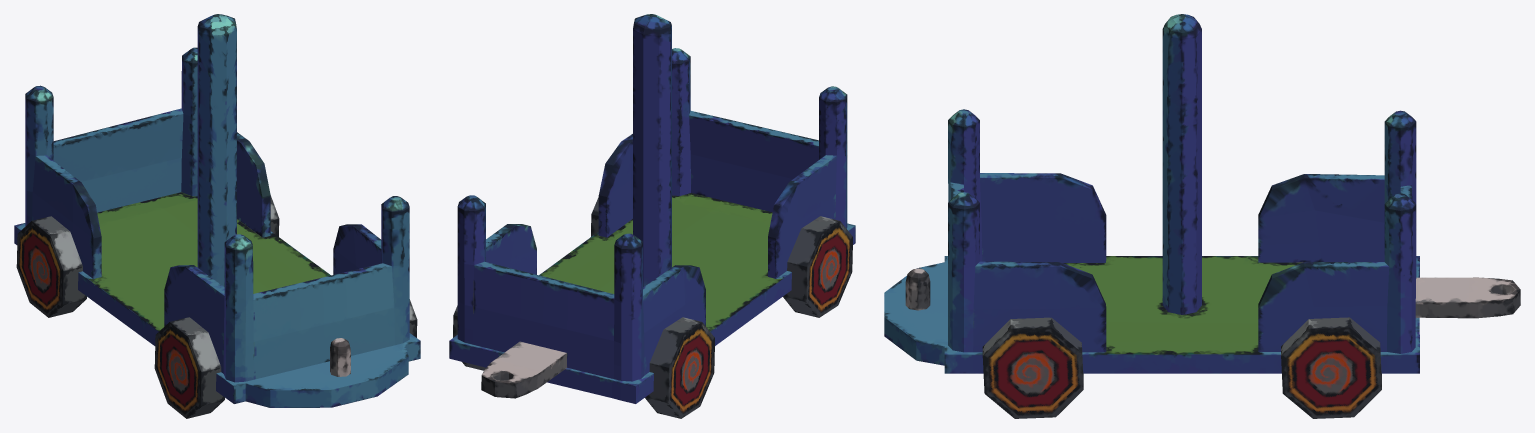
File: TrainCartPole.fbx
3 views of the same model, side by side, from view 1: azimuth 30°, elevation 25°; view 2: azimuth 150°, elevation 25°; view 3: azimuth 270°, elevation 25° (orthographic). The views are drawn at different scales.
Visible parts, largest first — view 1: SM_TrainCart_harder.002, Wiel-Klein.004, Wiel-Klein.003; view 2: SM_TrainCart_harder.002, Wiel-Klein.003, Wiel-Klein.004; view 3: SM_TrainCart_harder.002, Wiel-Klein.004, Wiel-Klein.003.
Part boxes in pixels (bbox=[...]): SM_TrainCart_harder.002: bbox=[14, 14, 420, 407]; Wiel-Klein.004: bbox=[16, 195, 279, 317]; Wiel-Klein.003: bbox=[154, 299, 417, 418]; SM_TrainCart_harder.002: bbox=[449, 14, 855, 403]; Wiel-Klein.003: bbox=[591, 197, 852, 317]; Wiel-Klein.004: bbox=[453, 305, 714, 418]; SM_TrainCart_harder.002: bbox=[884, 14, 1520, 373]; Wiel-Klein.004: bbox=[1281, 317, 1381, 418]; Wiel-Klein.003: bbox=[982, 317, 1083, 418].
Bounding box in the file's own units: 258 × 368 × 609.
